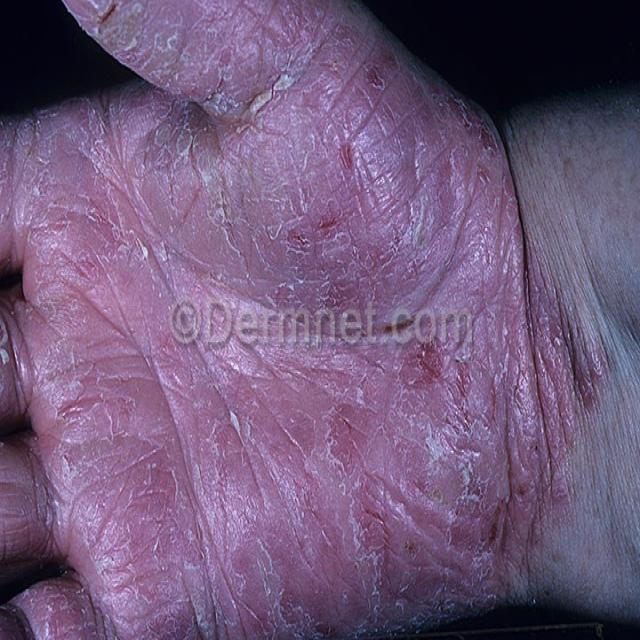Eczema: (0, 4, 597, 640)
